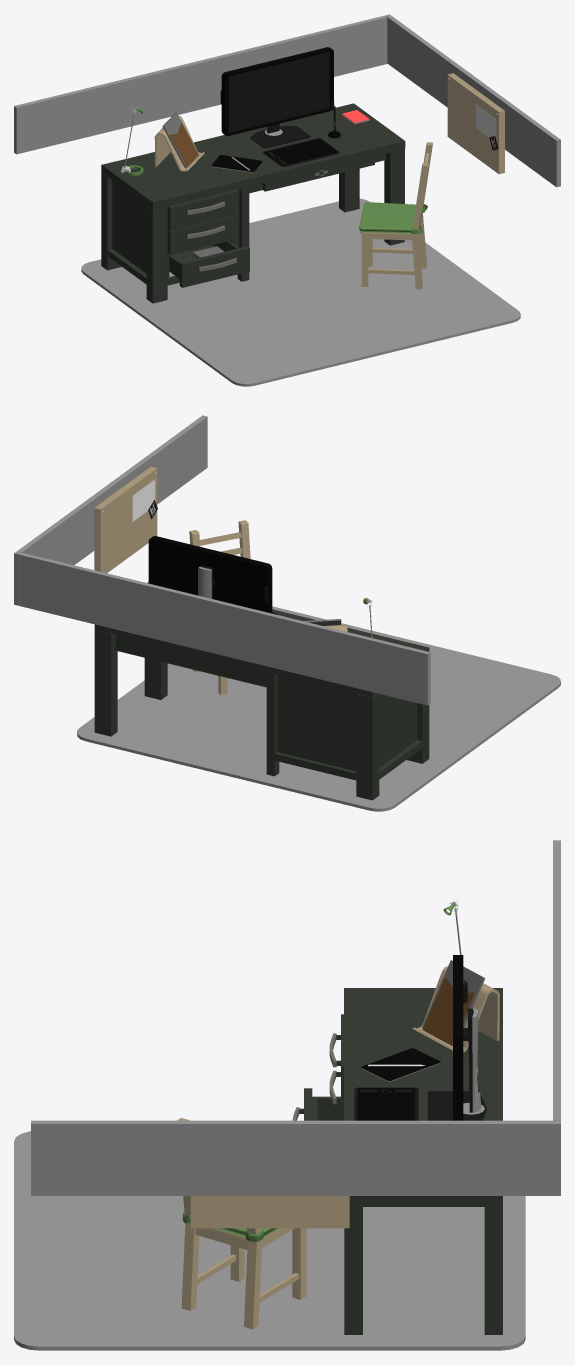
The model's file is computer_room.glb.
3 renders of one model, top to bottom at view 1: azimuth 30°, elevation 25°; view 2: azimuth 150°, elevation 25°; view 3: azimuth 270°, elevation 25°, orthographic. The views are drawn at different scales.
Visible parts, largest first — view 1: floor, pCube13, countertop, screen, pCube14, cap (×3), polySurface2, pCube15, inner_box, polySurface25, polySurface9, tablet (+9 smaller); view 2: floor, pCube13, inner_box, polySurface2, pCube14, screen, countertop, pCube15, legs1, pPlane1, polySurface9; view 3: floor, pCube14, countertop, pCube15, polySurface9, polySurface2, legs1, pCube13, tablet, screen, iPad_rack, polySurface11 (+6 smaller).
Part boxes in pixels (x1,y1,x2,y2): floor: [81, 198, 520, 386]; pCube13: [14, 15, 387, 154]; countertop: [101, 103, 405, 209]; screen: [221, 47, 333, 135]; pCube14: [385, 14, 560, 187]; cap (×3): [167, 190, 249, 287]; polySurface2: [101, 168, 359, 303]; pCube15: [447, 73, 504, 174]; inner_box: [107, 181, 239, 285]; polySurface25: [359, 202, 427, 233]; polySurface9: [411, 142, 432, 289]; tablet: [263, 138, 339, 167]; floor: [77, 606, 560, 811]; pCube13: [19, 552, 430, 705]; inner_box: [274, 674, 422, 780]; polySurface2: [94, 630, 429, 800]; pCube14: [14, 415, 207, 605]; screen: [148, 536, 272, 613]; countertop: [94, 582, 429, 697]; pCube15: [94, 466, 157, 573]; legs1: [144, 658, 167, 699]; pPlane1: [132, 479, 155, 521]; polySurface9: [189, 520, 250, 672]; floor: [14, 1131, 525, 1350]; pCube14: [31, 1120, 560, 1195]; countertop: [344, 988, 502, 1206]; pCube15: [190, 1196, 349, 1228]; polySurface9: [177, 1117, 262, 1329]; polySurface2: [484, 1196, 502, 1334]; legs1: [344, 1196, 362, 1334]; pCube13: [553, 840, 560, 1120]; tablet: [354, 1087, 418, 1120]; screen: [453, 955, 463, 1120]; iPad_rack: [413, 966, 499, 1052]; polySurface11: [230, 1228, 306, 1299].
Bounding box in the file's own units: 25.32 × 11.54 × 20.65.
Materials: 15 (1 with a texture image).
